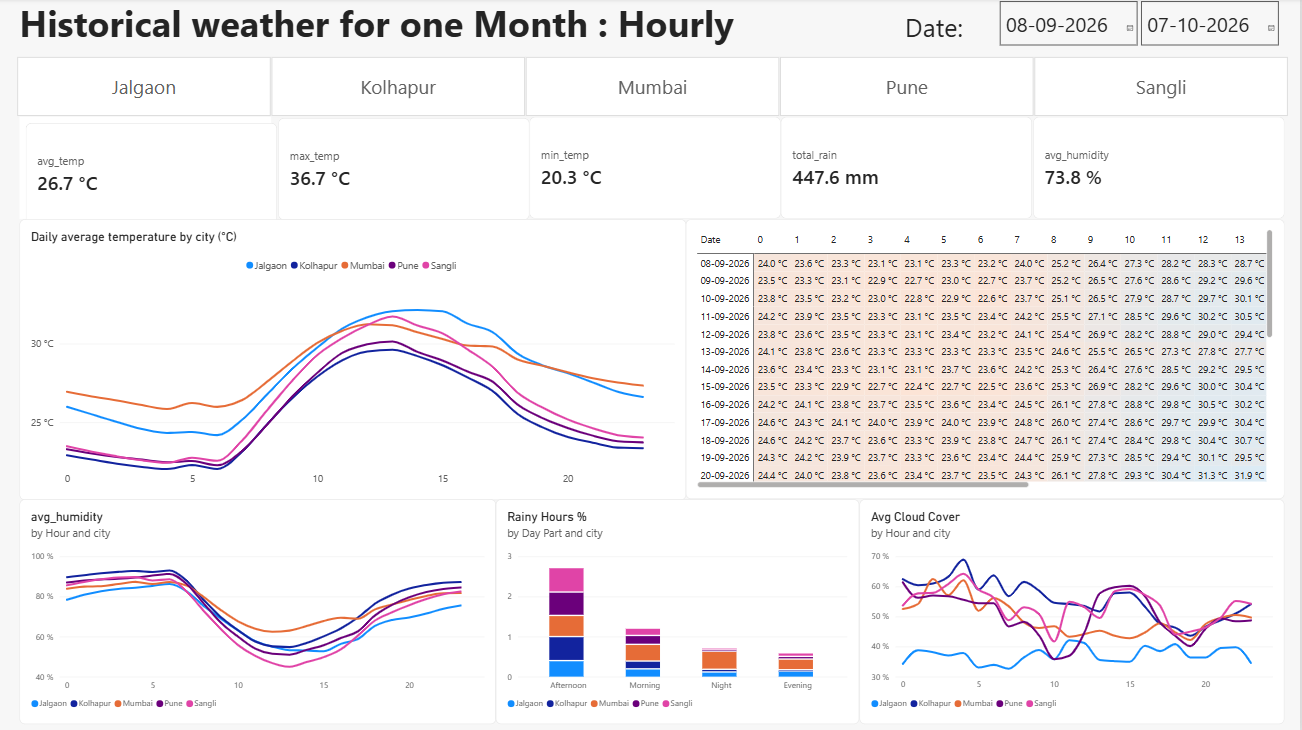

This screenshot's page, from the dashboard's own definition file:
{"tool":"powerbi","page":{"name":"Page 3","canvas":[1920,1080],"ordinal":2},"visuals":[{"type":"slicer","fields":{"Values":["dimcity.city"]},"box":[9.9,84.4,1910.1,90.6],"z":0},{"type":"cardVisual","box":[32.9,175,370.5,150.3],"z":1000},{"type":"cardVisual","fields":{"Data":["factweatherhistorical.avg_temp"]},"box":[42.9,185,370.5,150.3],"z":2000},{"type":"cardVisual","fields":{"Data":["factweatherhistorical.max_temp"]},"box":[413.7,177,370.5,150.3],"z":3000},{"type":"cardVisual","fields":{"Data":["factweatherhistorical.min_temp"]},"box":[784.2,175,370.5,150.3],"z":4000},{"type":"cardVisual","fields":{"Data":["factweatherhistorical.avg_humidity"]},"box":[1525.2,175,370.5,150.3],"z":5000},{"type":"cardVisual","fields":{"Data":["factweatherhistorical.total_rain"]},"box":[1154.7,175,370.5,150.3],"z":6000},{"type":"lineChart","title":"Daily average temperature by city (°C)","fields":{"Category":["factweatherhistorical.Hour"],"Series":["dimcity.city"],"Y":["factweatherhistorical.avg_temp"]},"box":[32.9,325.2,981.8,413.7],"z":7000},{"type":"textbox","box":[32.9,0,1403.8,84.4],"z":9000},{"type":"lineChart","fields":{"Category":["factweatherhistorical.Hour"],"Series":["dimcity.city"],"Y":["factweatherhistorical.avg_humidity"]},"box":[32.9,738.9,701.9,331.4],"z":10000},{"type":"columnChart","fields":{"Category":["factweatherhistorical.Day Part"],"Series":["dimcity.city"],"Y":["factweatherhistorical.Rainy Hours %"]},"box":[734.4,738,535.2,331.4],"z":11000},{"type":"lineChart","fields":{"Category":["factweatherhistorical.Hour"],"Series":["dimcity.city"],"Y":["factweatherhistorical.Avg Cloud Cover"]},"box":[1269.9,738,625.8,331.3],"z":12000},{"type":"pivotTable","fields":{"Columns":["factweatherhistorical.Hour"],"Rows":["factweatherhistorical.Date"],"Values":["select","factweatherhistorical.avg_temp"]},"box":[1014.1,325.8,881.6,412.3],"z":13000},{"type":"listSlicer","fields":{"Values":["factweatherhistorical.Date"]},"box":[99.4,99.4,450.9,104.9],"z":13001}]}

Visuals, with their boxes in screenshot pixels (x1, y1, x2, y2), scaled from the page's 1920x1080 canvas onto the 1302x730 screenshot:
slicer - dimcity.city: 7 57 1301 118
cardVisual: 22 118 274 220
cardVisual - factweatherhistorical.avg_temp: 29 125 280 227
cardVisual - factweatherhistorical.max_temp: 281 120 532 221
cardVisual - factweatherhistorical.min_temp: 532 118 783 220
cardVisual - factweatherhistorical.avg_humidity: 1034 118 1286 220
cardVisual - factweatherhistorical.total_rain: 783 118 1034 220
"Daily average temperature by city (°C)" lineChart: 22 220 688 499
textbox: 22 0 974 57
lineChart - factweatherhistorical.Hour x dimcity.city: 22 499 498 723
columnChart - factweatherhistorical.Day Part x dimcity.city: 498 499 861 723
lineChart - factweatherhistorical.Hour x dimcity.city: 861 499 1286 723
pivotTable - factweatherhistorical.Hour x factweatherhistorical.Date: 688 220 1286 499
listSlicer - factweatherhistorical.Date: 67 67 373 138
